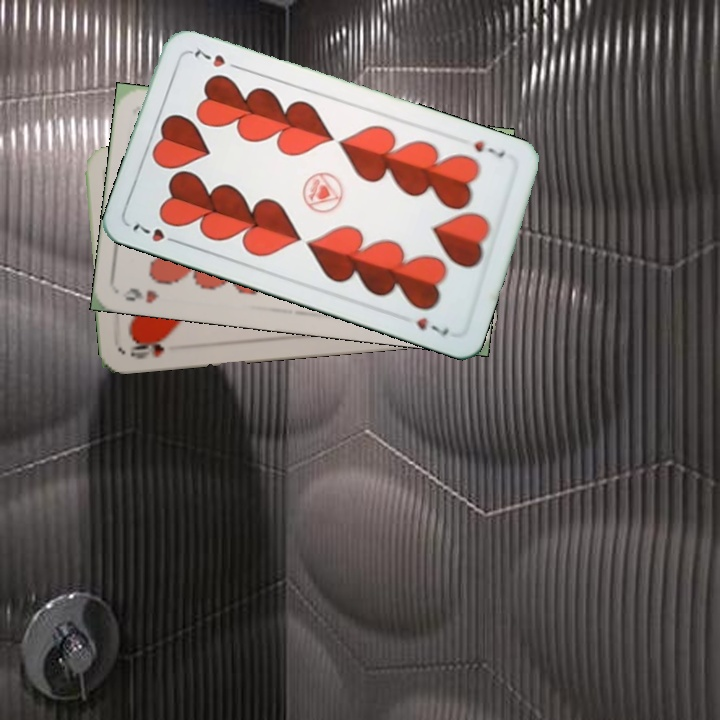H7: (128, 219, 184, 247), (469, 136, 508, 161)
H9: (119, 283, 161, 306)
HO: (126, 335, 171, 362)
